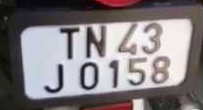0: (78, 61, 101, 91)
1: (108, 59, 121, 89)
3: (141, 22, 162, 54)
4: (118, 23, 137, 55)
5: (128, 56, 147, 87)
8: (151, 55, 171, 85)
J: (44, 64, 65, 93)
N: (84, 25, 108, 59)
T: (58, 27, 80, 60)
